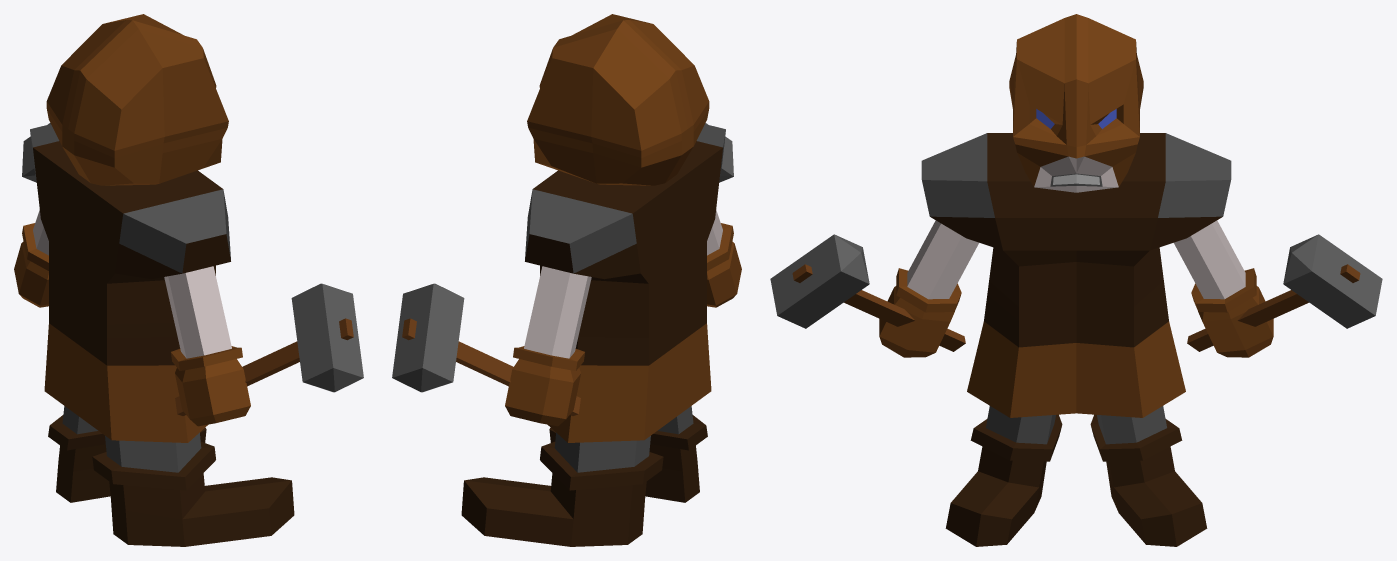
Rendered from barbarian v2.fbx.
3 views of the same model, side by side, from view 1: azimuth 30°, elevation 25°; view 2: azimuth 150°, elevation 25°; view 3: azimuth 270°, elevation 25° (orthographic).
Visible parts, largest first — view 1: Cube.001; view 2: Cube.001; view 3: Cube.001.
Boxes of the visible parts, x1=… form: Cube.001: x1=14, y1=14, x2=363, y2=546; Cube.001: x1=392, y1=14, x2=741, y2=546; Cube.001: x1=770, y1=14, x2=1382, y2=546.
Size of the model in its own units: 273 by 726 by 834.
